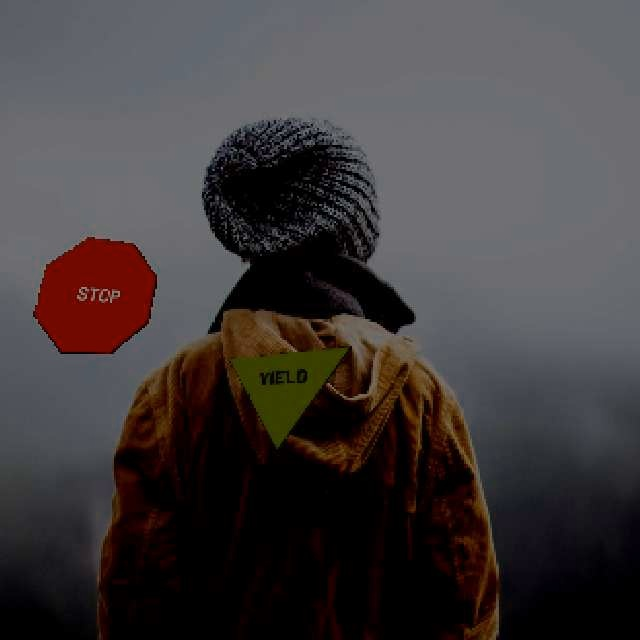STOP: (31, 235, 156, 353)
YIELD: (226, 344, 351, 450)
